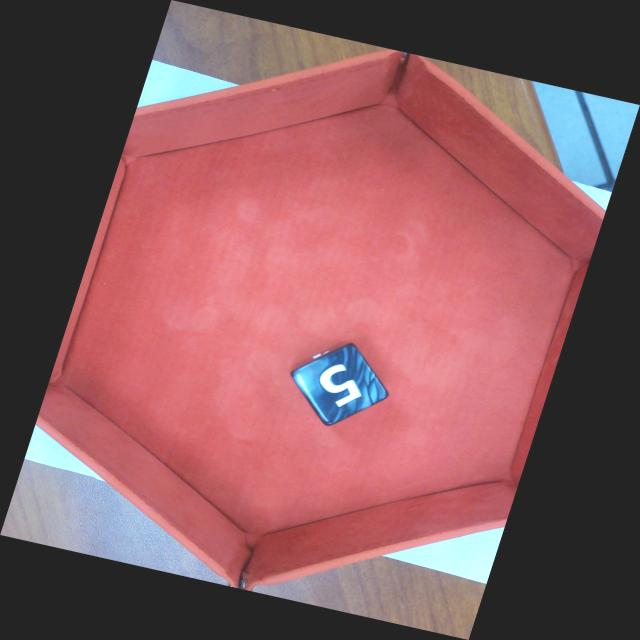dice: (293, 342, 391, 427)
